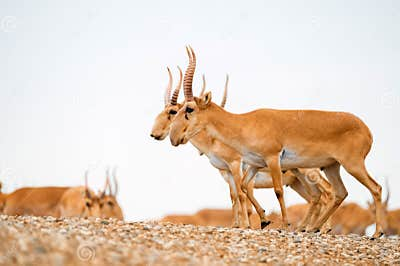saiga: (175, 44, 394, 242)
